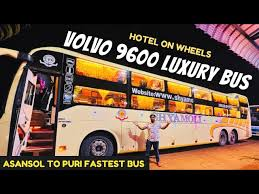bus: (1, 46, 252, 160), (246, 104, 259, 137)
